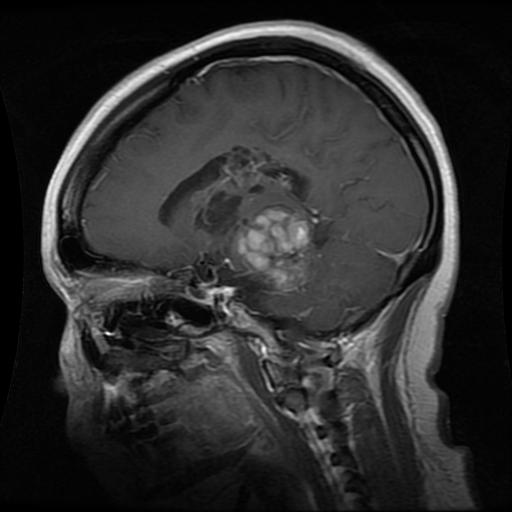Gliomia_tumour: (191, 140, 333, 297)
